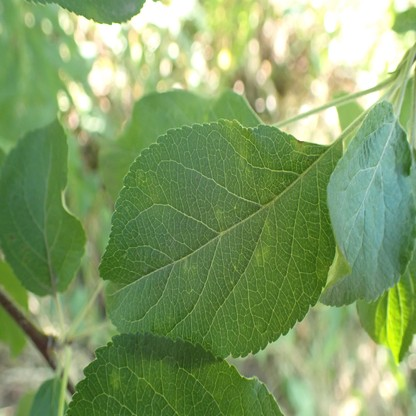scab: (224, 119, 251, 174), (290, 136, 309, 159), (255, 246, 272, 268), (110, 369, 121, 390), (182, 256, 195, 272), (216, 208, 223, 222)
